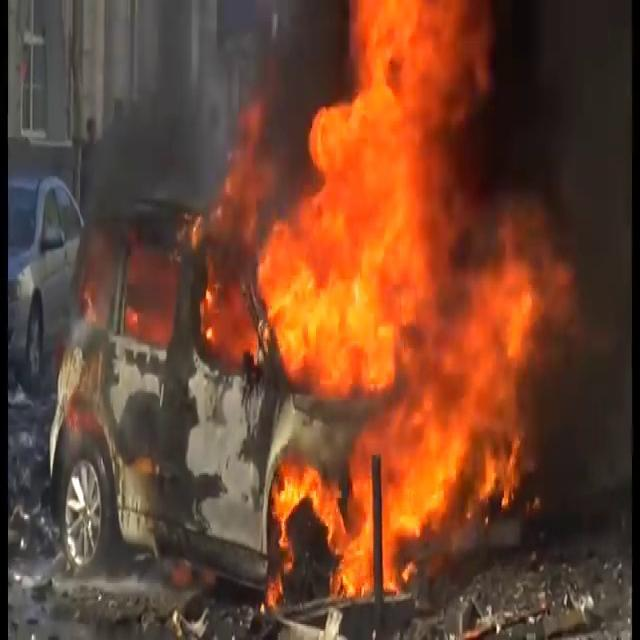Fire: (251, 0, 565, 601)
Smoke: (487, 1, 631, 526)
